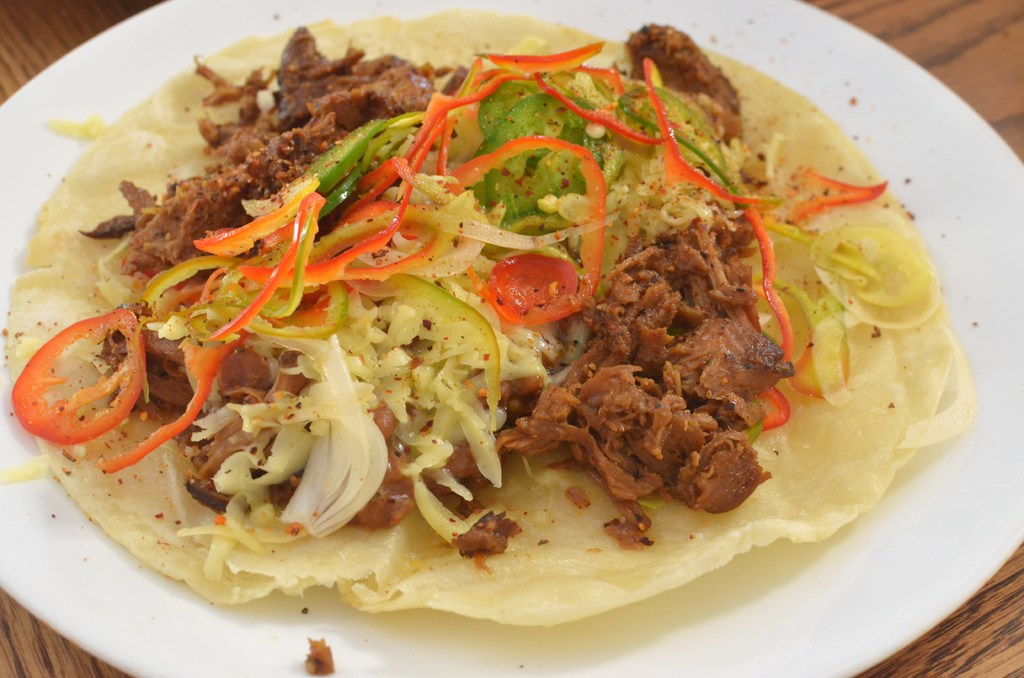taco: (0, 47, 993, 621)
